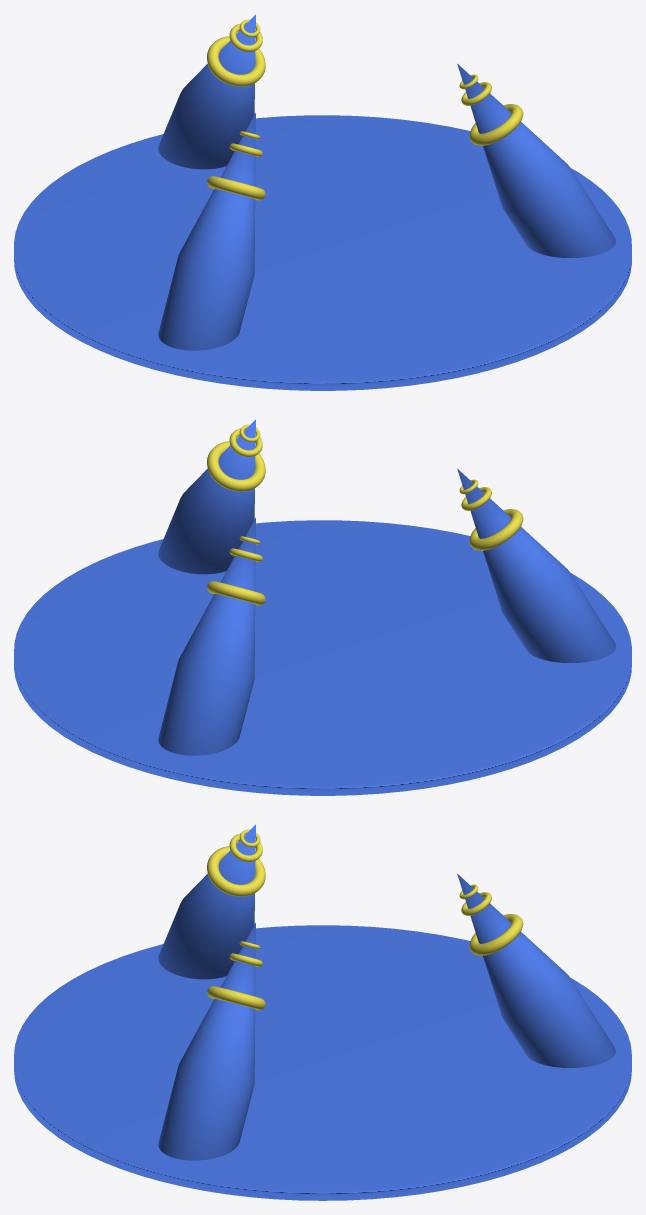
File: PrinterPlatform.fbx
3 views of the same model, one above another, from view 1: azimuth 30°, elevation 25°; view 2: azimuth 150°, elevation 25°; view 3: azimuth 270°, elevation 25° (orthographic).
Parts seen in each view (by area): view 1: Cylinder.001, Cylinder, Cone.000, Cone.002, Cone.001, Torus.004, Torus.008, Torus.000; view 2: Cylinder.001, Cylinder, Cone.001, Cone.000, Cone.002, Torus.008, Torus.000, Torus.004; view 3: Cylinder.001, Cylinder, Cone.002, Cone.001, Cone.000, Torus.000, Torus.004, Torus.008.
Boxes of the visible parts, x1,y1,x2,y2 form: Cylinder.001: (25, 116, 620, 371); Cylinder: (14, 115, 631, 390); Cone.000: (158, 112, 255, 350); Cone.002: (457, 63, 615, 257); Cone.001: (158, 14, 255, 169); Torus.004: (207, 36, 265, 86); Torus.008: (469, 104, 523, 145); Torus.000: (207, 176, 265, 200); Cylinder.001: (25, 521, 620, 776); Cylinder: (14, 520, 631, 795); Cone.001: (158, 517, 255, 755); Cone.000: (457, 468, 615, 662); Cone.002: (158, 419, 255, 574); Torus.008: (207, 441, 265, 491); Torus.000: (469, 509, 523, 550); Torus.004: (207, 581, 265, 605); Cylinder.001: (25, 925, 620, 1181); Cylinder: (14, 925, 631, 1200); Cone.002: (158, 922, 255, 1160); Cone.001: (457, 873, 615, 1067); Cone.000: (158, 824, 255, 979); Torus.000: (207, 846, 265, 896); Torus.004: (469, 914, 523, 955); Torus.008: (207, 986, 265, 1010).
Size of the model in its own units: 215 by 86.89 by 215.
